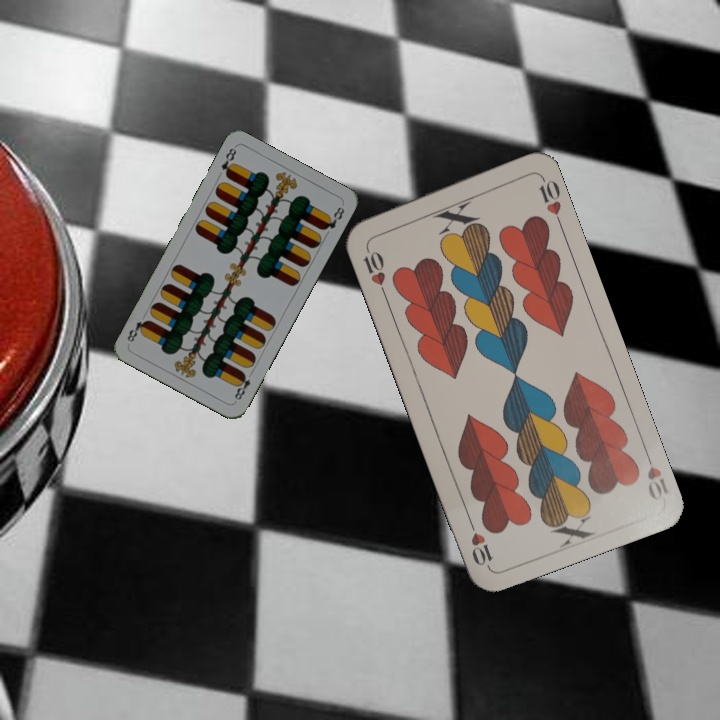E8: (230, 367, 256, 403), (217, 144, 239, 180)
H10: (640, 446, 671, 503), (359, 240, 389, 297)
